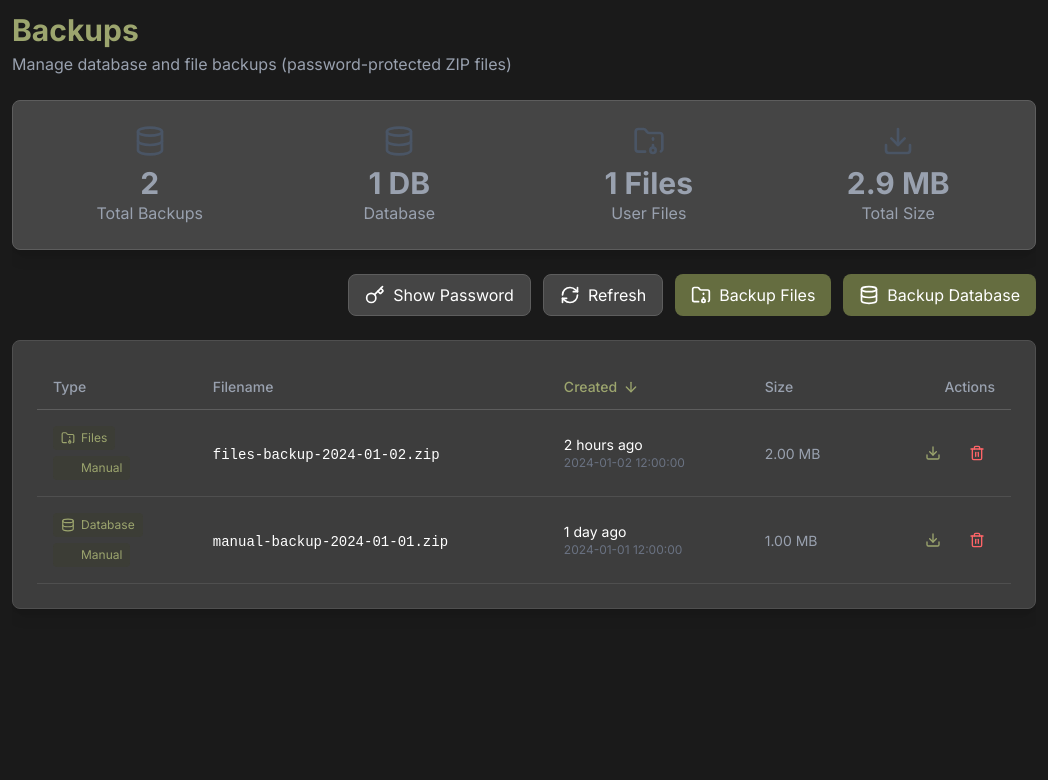
Test: BackupsManagement › Creating backups › should create a database backup successfully
Expected: the text "manual-backup-2024-01-01.zip" is shown, [213,534,448,550]
Click the button "Backup Database".
click(940, 295)  # box [843,274,1036,316]
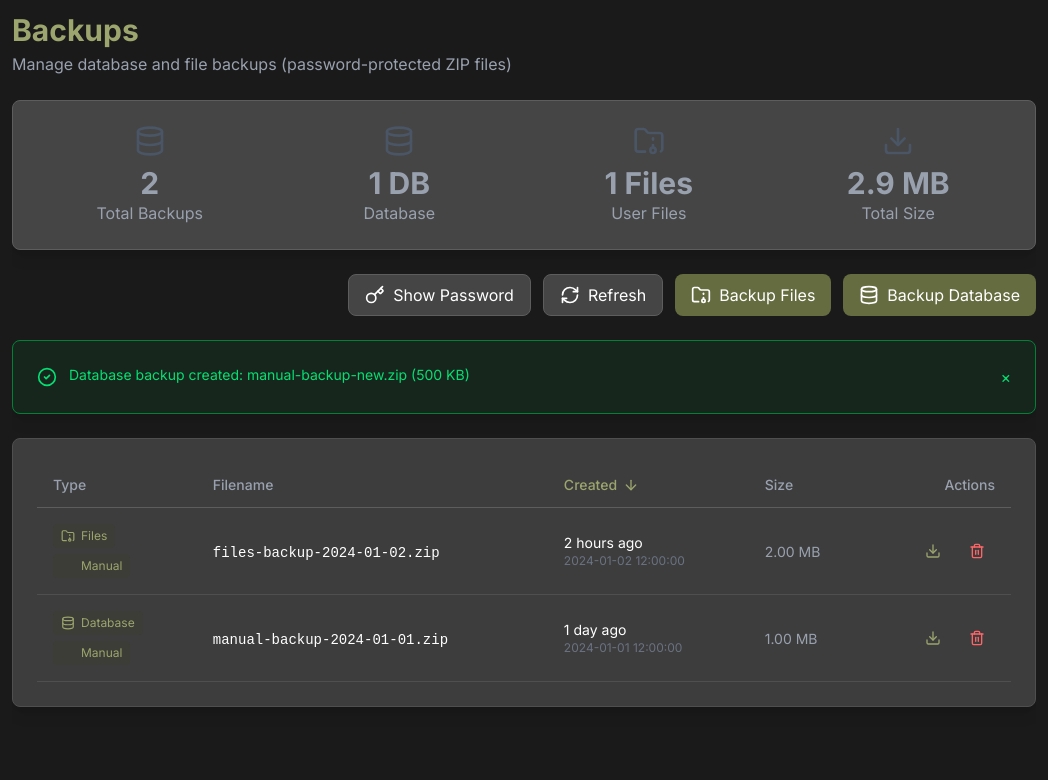
Now the text "Database backup created: manual-backup-new.zip (500 KB)" is shown, box [69,366,470,383]
